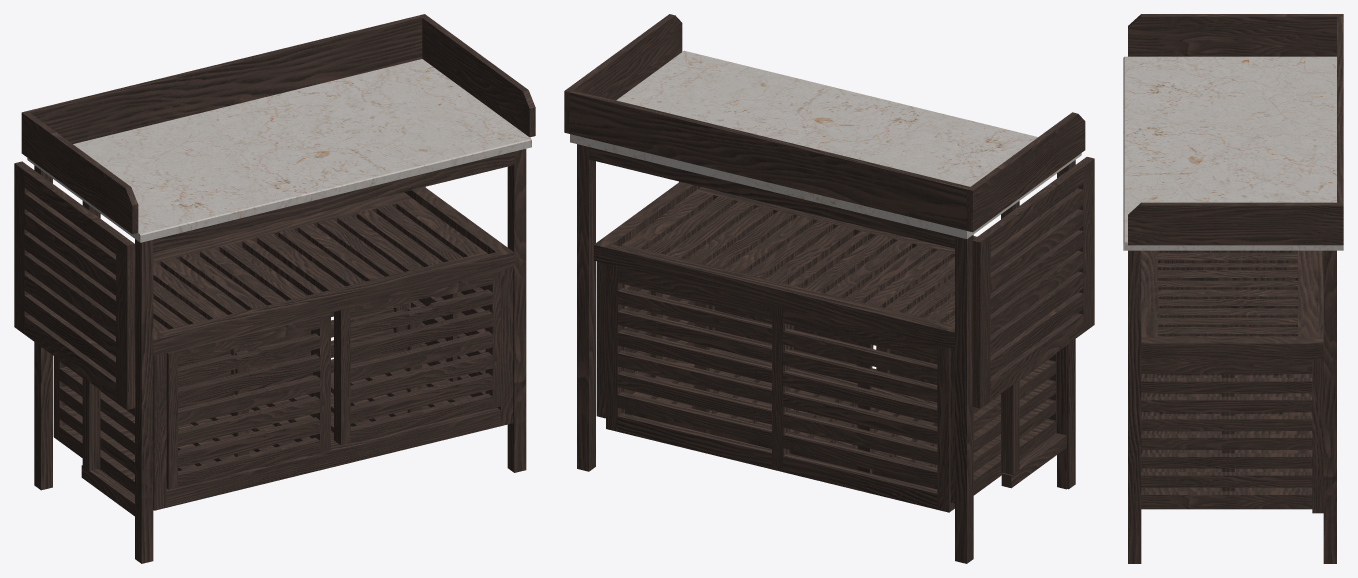
Rendered from workBenchM_v3.gltf.
The picture shows the model from 3 angles, left to right: view 1: azimuth 30°, elevation 25°; view 2: azimuth 150°, elevation 25°; view 3: azimuth 270°, elevation 25°; orthographic projection. The views are drawn at different scales.
Visible parts, largest first — view 1: workBench, stoneBench, benchExtend, door, door1, Cube, legExtend1; view 2: workBench, stoneBench, benchExtend, legExtend1, Cube, door1; view 3: workBench, stoneBench.
Boxes of the visible parts, x1,y1,x2,y2 form: workBench: (21, 14, 535, 563); stoneBench: (27, 59, 531, 242); benchExtend: (14, 161, 135, 409); door: (166, 313, 330, 489); door1: (334, 271, 500, 445); Cube: (82, 201, 100, 470); legExtend1: (81, 465, 134, 516); workBench: (564, 14, 1085, 563); stoneBench: (570, 50, 1081, 238); benchExtend: (972, 157, 1094, 408); legExtend1: (1001, 166, 1066, 489); Cube: (1001, 201, 1019, 474); door1: (709, 305, 873, 365); workBench: (1128, 14, 1343, 563); stoneBench: (1123, 56, 1343, 250).
Size of the model in its own units: 10.48 by 9.1 by 5.
Materials: 3 (3 with a texture image).
